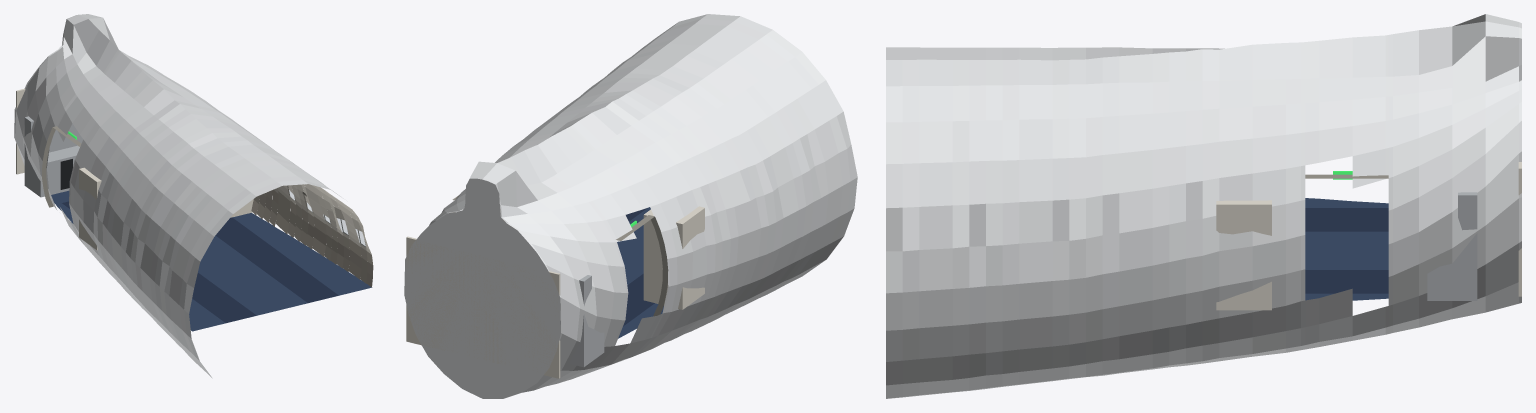
File: ac_section_tail.glb
3 renders of one model, left to right at view 1: azimuth 30°, elevation 25°; view 2: azimuth 150°, elevation 25°; view 3: azimuth 270°, elevation 25°, orthographic. The views are drawn at different scales.
Visible parts, largest first — view 1: ac_section_tail; view 2: ac_section_tail; view 3: ac_section_tail.
Boxes of the visible parts, x1,y1,x2,y2 form: ac_section_tail: (14,14,373,378); ac_section_tail: (404,14,857,398); ac_section_tail: (886,14,1521,398).
Size of the model in its own units: 6 by 7.25 by 11.45.
